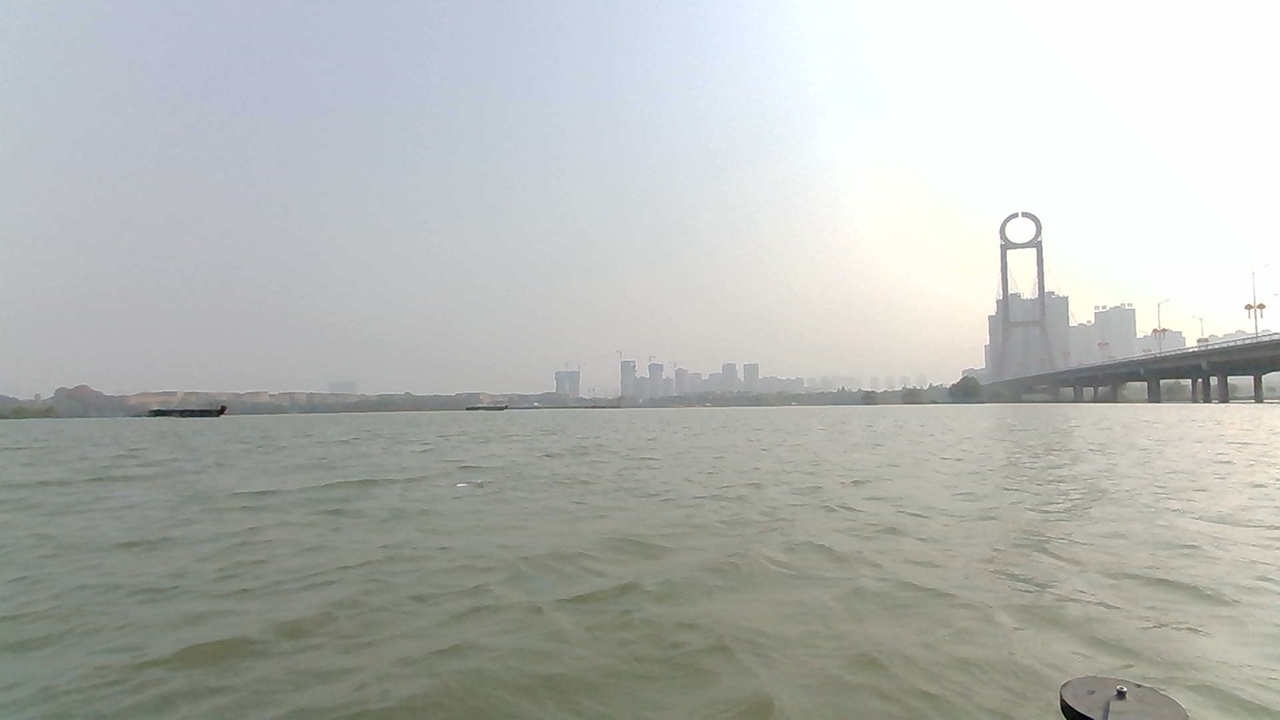bottle: (458, 471, 505, 496)
